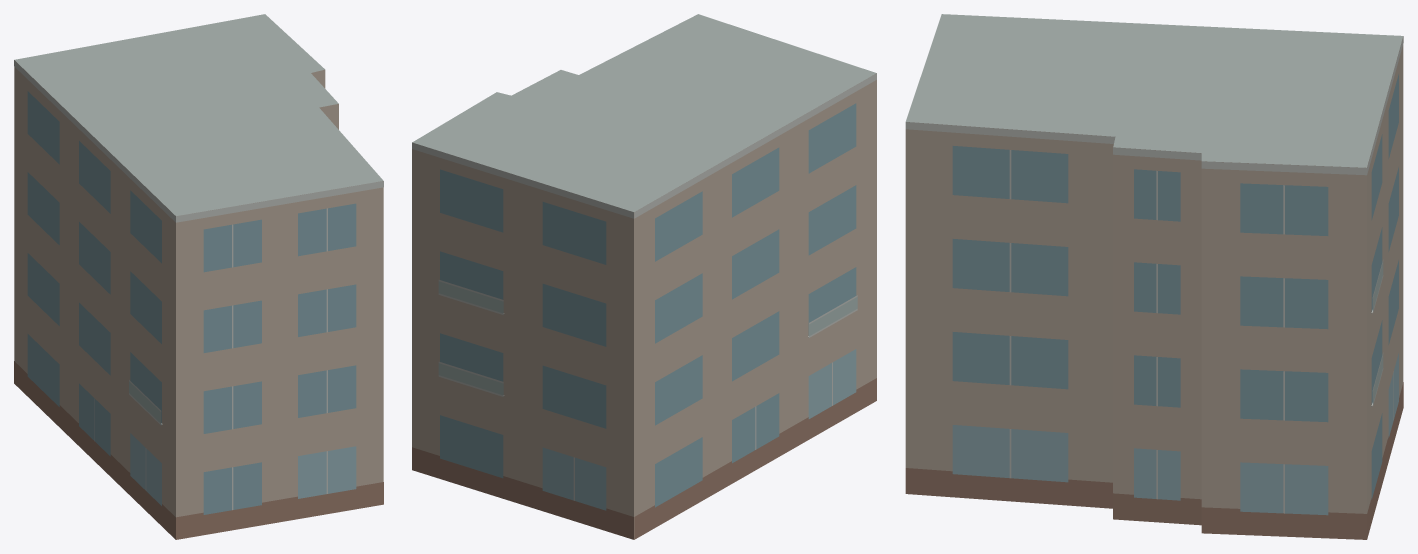
The model's file is survey-upis-32646805.glb.
The picture shows the model from 3 angles, left to right: view 1: azimuth 30°, elevation 25°; view 2: azimuth 150°, elevation 25°; view 3: azimuth 270°, elevation 25°; orthographic projection. The views are drawn at different scales.
Parts seen in each view (by area): view 1: survey-upis-32646805.tmp; view 2: survey-upis-32646805.tmp; view 3: survey-upis-32646805.tmp.
Boxes of the visible parts, x1,y1,x2,y2 form: survey-upis-32646805.tmp: [14, 14, 383, 539]; survey-upis-32646805.tmp: [412, 14, 876, 539]; survey-upis-32646805.tmp: [905, 14, 1403, 539].
Size of the model in its own units: 10.83 by 12.2 by 14.8.
